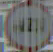Heavy Vehicles: (2, 2, 49, 51)
